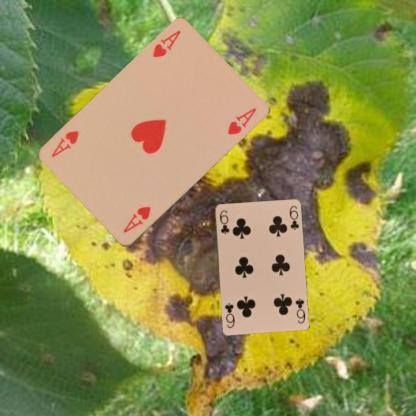6c: (292, 295, 307, 324), (216, 208, 231, 236)
Ah: (150, 28, 183, 60), (120, 204, 152, 235)
